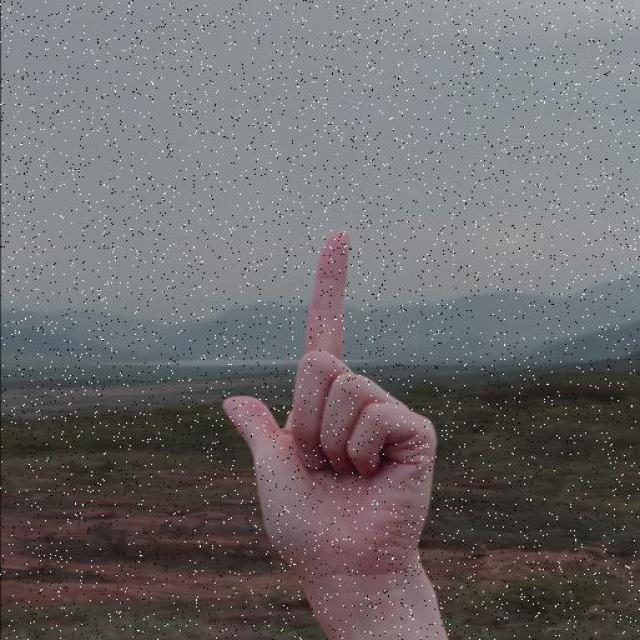L: (220, 227, 440, 582)
